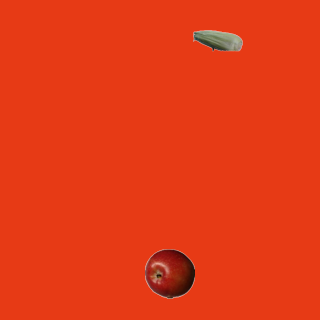Apple Braeburn: (144, 248, 194, 298)
Corn Husk: (192, 15, 242, 65)
